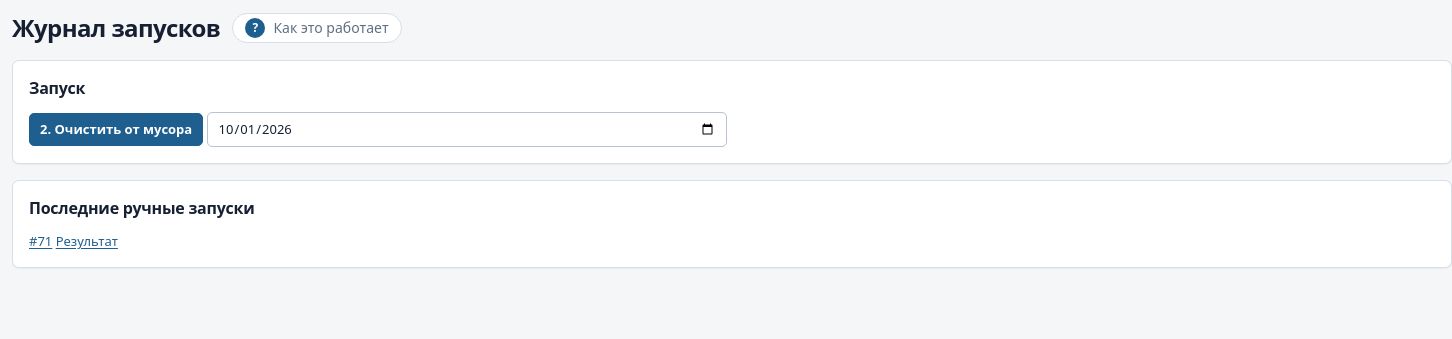
Test case: shows the legacy page's own piece under its name, asked for as the console
Check: the heading "Журнал запусков" is shown, box [12, 12, 220, 44]
Check: the heading "Последние ручные запуски" is shown, box [29, 197, 254, 219]
What coordinates should you click on to do the following:
click the button "? Как это работает"
I would click on:
 (317, 28)
Its box is [232, 13, 402, 43].
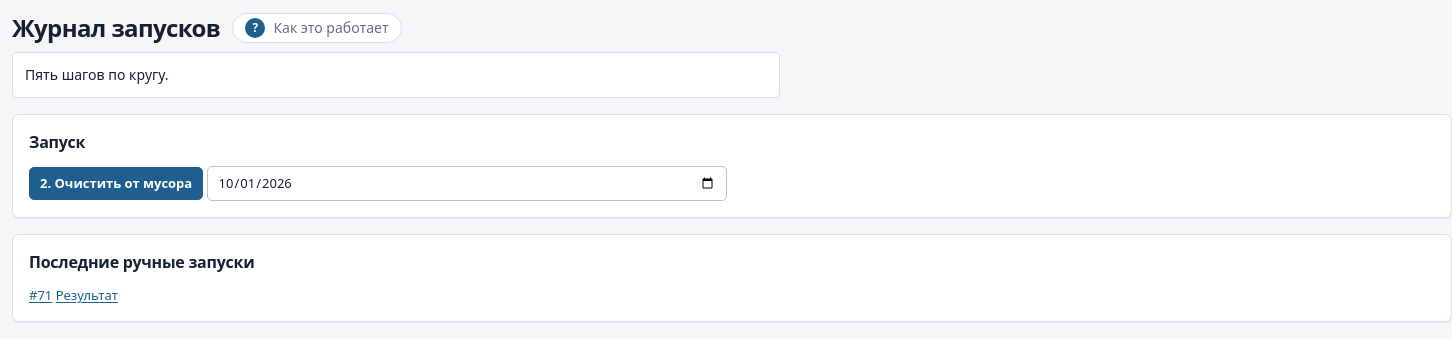
Check: the text "Пять шагов по кругу." is shown, box [25, 65, 168, 84]
